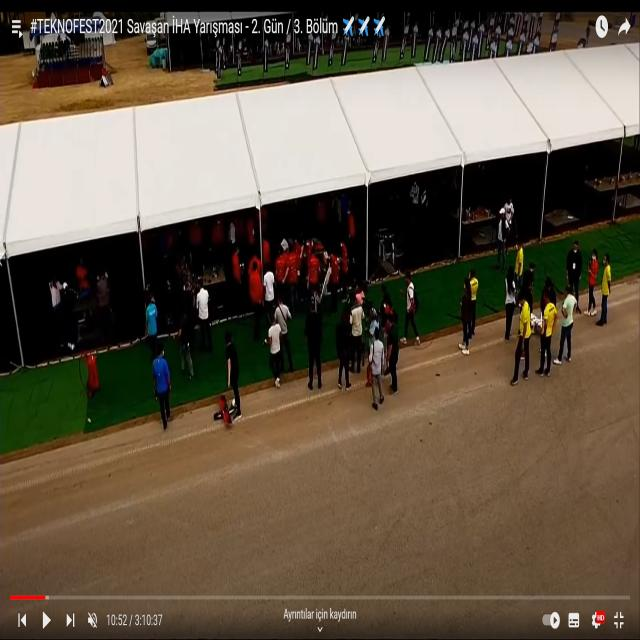iha: (213, 394, 236, 430)
